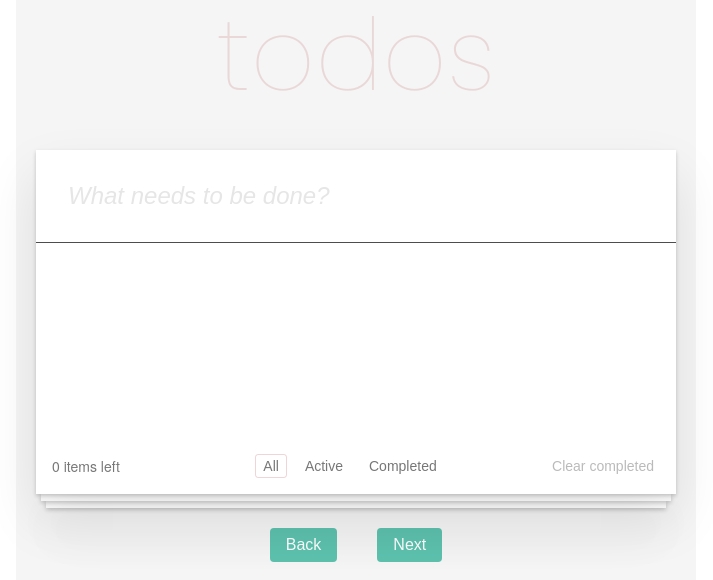
it: List Component › adds new task
Type "New test task" into the field with placeholder "What needs to be done?". click: x=356, y=196
box: [52, 166, 660, 226]
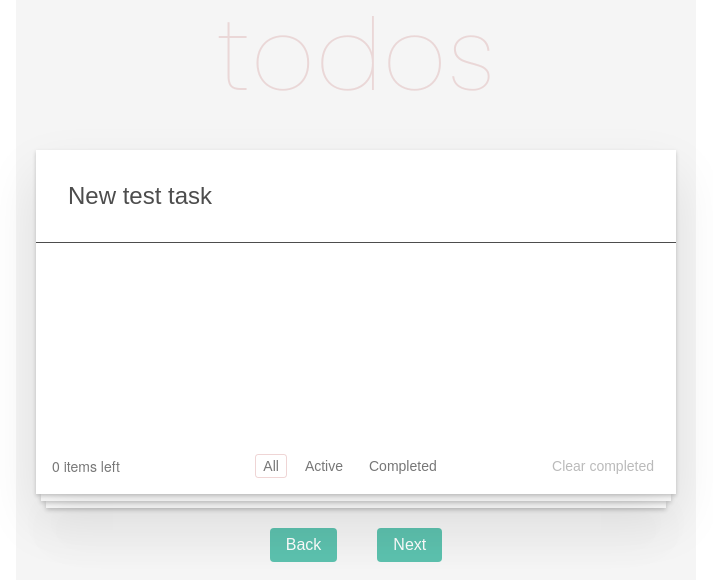
Press Enter in the field with placeholder "What needs to be done?", box [52, 166, 660, 226]
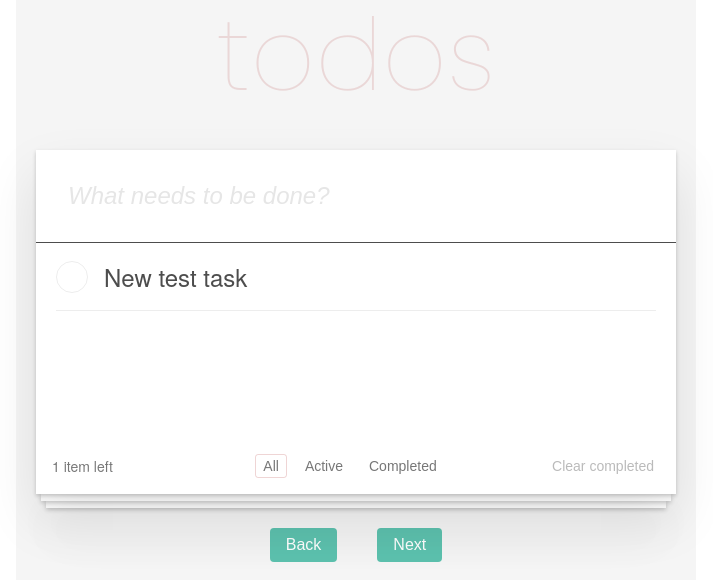
Check: the text "New test task" is shown, box [104, 259, 247, 294]
Check: the field with placeholder "What needs to be done?" is empty, box [52, 166, 660, 226]
